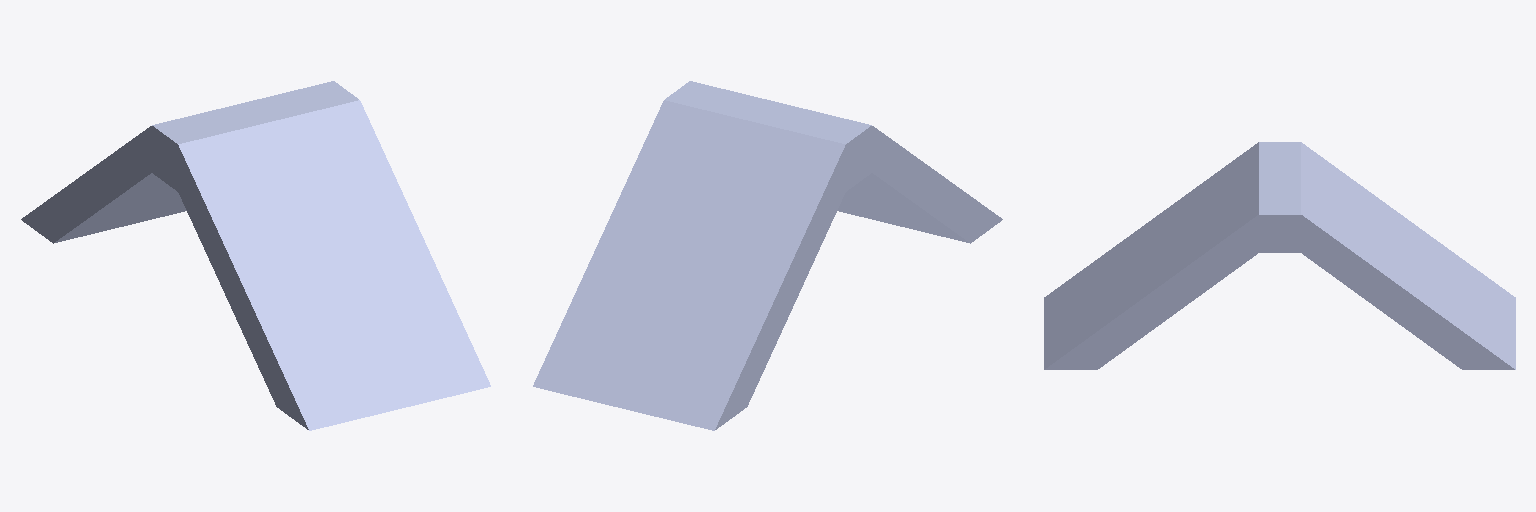
robot.urdf — AssemblySlope(URDF).SLDASM:
<?xml version="1.0" encoding="utf-8"?>
<!-- This URDF was automatically created by SolidWorks to URDF Exporter! Originally created by [author] ([email redacted]) 
     Commit Version: 1.6.0-4-g7f85cfe  Build Version: 1.6.7995.38578
     For more information, please see http://wiki.ros.org/sw_urdf_exporter -->
<robot
  name="AssemblySlope(URDF).SLDASM">
  <link
    name="base_link">
    <inertial>
      <origin
        xyz="-7.78401559733182E-17 0.194017094017094 1.11200222819026E-17"
        rpy="0 0 0" />
      <mass
        value="39" />
      <inertia
        ixx="3.62391648860399"
        ixy="1.30805053769152E-17"
        ixz="-7.51290299723499E-17"
        iyy="3.6603125"
        iyz="-1.04238625536293E-16"
        izz="1.00360398860399" />
    </inertial>
    <visual>
      <origin
        xyz="0 0 0"
        rpy="0 0 0" />
      <geometry>
        <mesh
          filename="package://AssemblySlope(URDF).SLDASM/meshes/base_link.STL" />
      </geometry>
      <material
        name="">
        <color
          rgba="0.792156862745098 0.819607843137255 0.933333333333333 1" />
      </material>
    </visual>
    <collision>
      <origin
        xyz="0 0 0"
        rpy="0 0 0" />
      <geometry>
        <mesh
          filename="package://AssemblySlope(URDF).SLDASM/meshes/base_link.STL" />
      </geometry>
    </collision>
  </link>
</robot>

--- Render facts (derived) ---
The picture shows the robot from 3 angles, left to right: view 1: azimuth 30°, elevation 25°; view 2: azimuth 150°, elevation 25°; view 3: azimuth 270°, elevation 25°; orthographic projection.
Model AssemblySlope(URDF).SLDASM with 1 links and 0 joints (none), rooted at base_link, posed all joints at 0.
Links seen in each view (by area): view 1: base_link; view 2: base_link; view 3: base_link.
Link boxes in pixels (x1,y1,x2,y2): base_link: [21, 81, 490, 430]; base_link: [533, 81, 1002, 430]; base_link: [1044, 142, 1515, 369].
Size in the robot's own frame: 0.4 by 1.1 by 0.4 metres.
Meshes: 1 distinct files referenced, 1 mesh visuals loaded (1 binary STL).